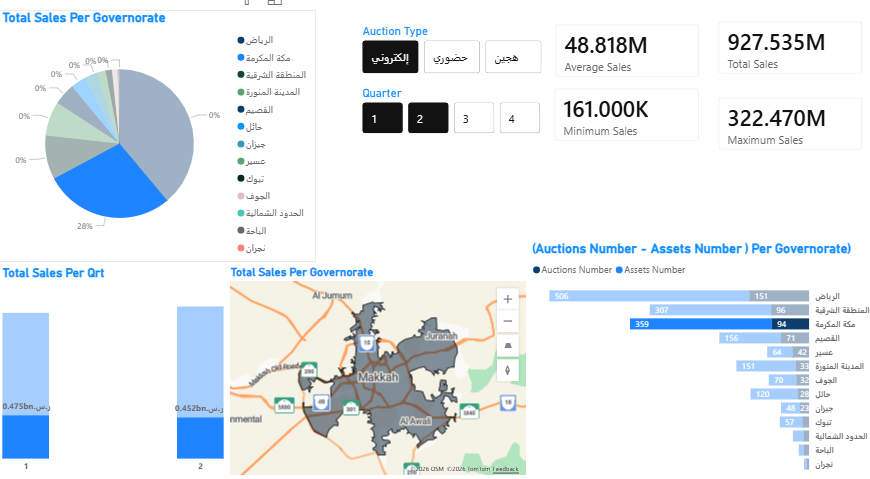

The page's visual inventory and layout, read from the dashboard file:
{"tool":"powerbi","page":{"name":"Page 1","canvas":[1280,720],"ordinal":0},"visuals":[{"type":"azureMap","title":"Total Sales Per Governorate","fields":{"Category":["بيانات المبيعات العقارية السنوية حسب السنة والربع والمنطقة والمبالغ الإجمالي (2).المنطقة","بيانات المبيعات العقارية السنوية حسب السنة والربع والمنطقة والمبالغ الإجمالي (2).المدينة"]},"box":[333.7,406.8,442,313.2],"z":0},{"type":"cardVisual","fields":{"Data":["Sum(بيانات المبيعات العقارية السنوية حسب السنة والربع والمنطقة والمبالغ الإجمالي (2).مجموع_قيمة_البيع)"]},"box":[1035.7,34.3,244.3,110],"z":1000},{"type":"advancedSlicerVisual","title":"Auction Type","fields":{"Values":["بيانات المبيعات العقارية السنوية حسب السنة والربع والمنطقة والمبالغ الإجمالي (2).نوع المزاد"]},"box":[526.8,54.1,273.7,77.6],"z":2000},{"type":"pieChart","title":"Total Sales Per Governorate","fields":{"Category":["بيانات المبيعات العقارية السنوية حسب السنة والربع والمنطقة والمبالغ الإجمالي (2).المنطقة"],"Y":["Sum(بيانات المبيعات العقارية السنوية حسب السنة والربع والمنطقة والمبالغ الإجمالي (2).مجموع_قيمة_البيع)"]},"box":[0,33.7,463.9,368.8],"z":3000},{"type":"barChart","title":"(Auctions Number - Assets Number ) Per Governorate)","fields":{"Y":["Sum(بيانات المبيعات العقارية السنوية حسب السنة والربع والمنطقة والمبالغ الإجمالي (2).عدد_المزادات)","Sum(بيانات المبيعات العقارية السنوية حسب السنة والربع والمنطقة والمبالغ الإجمالي (2).عدد_الأصول)"],"Category":["بيانات المبيعات العقارية السنوية حسب السنة والربع والمنطقة والمبالغ الإجمالي (2).المنطقة"]},"box":[775.6,371.7,504.9,348.3],"z":4000},{"type":"cardVisual","fields":{"Data":["Avg(بيانات المبيعات العقارية السنوية حسب السنة والربع والمنطقة والمبالغ الإجمالي (2).مجموع_قيمة_البيع)"]},"box":[797.4,37.6,244.3,110],"z":5000},{"type":"cardVisual","fields":{"Data":["Max(بيانات المبيعات العقارية السنوية حسب السنة والربع والمنطقة والمبالغ الإجمالي (2).مجموع_قيمة_البيع)"]},"box":[1035.7,144.3,244.3,110],"z":6000},{"type":"cardVisual","fields":{"Data":["Min(بيانات المبيعات العقارية السنوية حسب السنة والربع والمنطقة والمبالغ الإجمالي (2).مجموع_قيمة_البيع)"]},"box":[796.7,132.1,245,110],"z":7000},{"type":"columnChart","title":"Total Sales Per Qrt","fields":{"Category":["بيانات المبيعات العقارية السنوية حسب السنة والربع والمنطقة والمبالغ الإجمالي (2).الربع"],"Y":["Sum(بيانات المبيعات العقارية السنوية حسب السنة والربع والمنطقة والمبالغ الإجمالي (2).مجموع_قيمة_البيع)"]},"box":[0,406.8,333.7,313.2],"z":8000},{"type":"advancedSlicerVisual","title":"Quarter","fields":{"Values":["بيانات المبيعات العقارية السنوية حسب السنة والربع والمنطقة والمبالغ الإجمالي (2).الربع"]},"box":[526.8,144.9,273.7,74.6],"z":9000}]}

Visuals, with their boxes in screenshot pixels (x1, y1, x2, y2), scaled from the page's 1280x720 canvas onto the 870x479 screenshot:
"Total Sales Per Governorate" azureMap: detection(227, 271, 527, 478)
cardVisual - Sum(بيانات المبيعات العقارية السنوية حسب السنة والربع والمنطقة والمبالغ الإجمالي (2).مجموع_قيمة_البيع): detection(704, 23, 869, 96)
"Auction Type" advancedSlicerVisual: detection(358, 36, 544, 88)
"Total Sales Per Governorate" pieChart: detection(0, 22, 315, 268)
"(Auctions Number - Assets Number ) Per Governorate)" barChart: detection(527, 247, 869, 478)
cardVisual - Avg(بيانات المبيعات العقارية السنوية حسب السنة والربع والمنطقة والمبالغ الإجمالي (2).مجموع_قيمة_البيع): detection(542, 25, 708, 98)
cardVisual - Max(بيانات المبيعات العقارية السنوية حسب السنة والربع والمنطقة والمبالغ الإجمالي (2).مجموع_قيمة_البيع): detection(704, 96, 869, 169)
cardVisual - Min(بيانات المبيعات العقارية السنوية حسب السنة والربع والمنطقة والمبالغ الإجمالي (2).مجموع_قيمة_البيع): detection(542, 88, 708, 161)
"Total Sales Per Qrt" columnChart: detection(0, 271, 227, 478)
"Quarter" advancedSlicerVisual: detection(358, 96, 544, 146)
